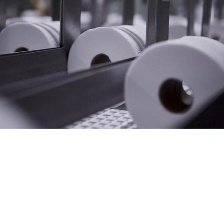tissue: (118, 30, 223, 128), (62, 19, 148, 77), (0, 15, 75, 59)
